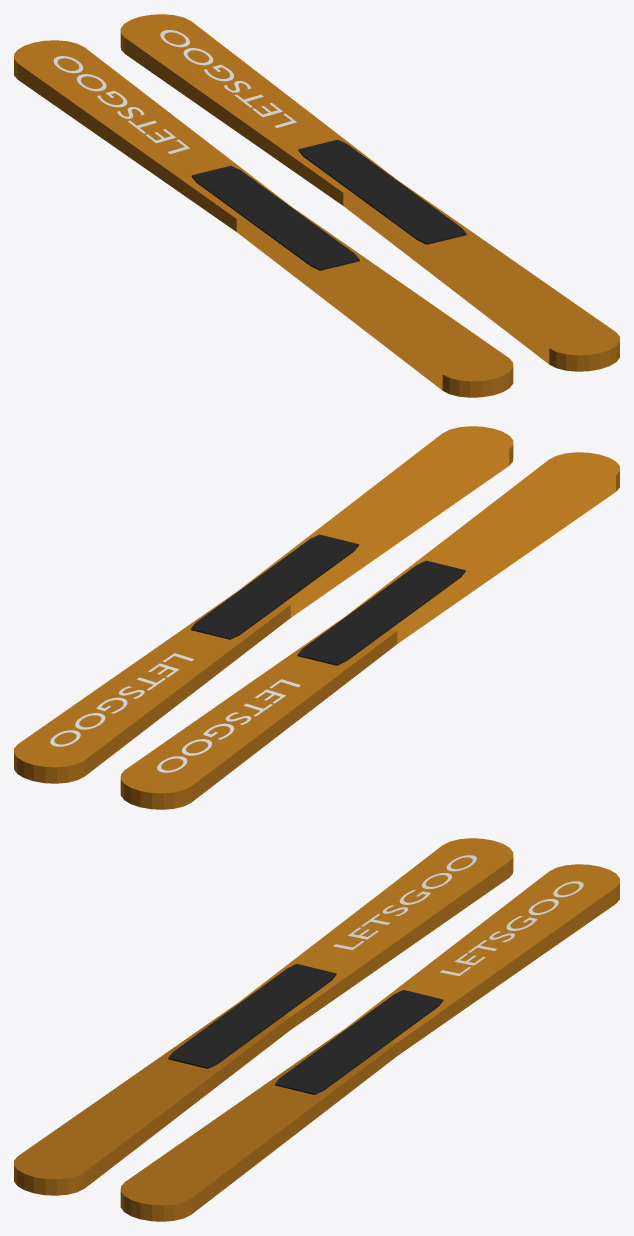
The model's file is skis.fbx.
The picture shows the model from 3 angles, top to bottom: view 1: azimuth 30°, elevation 25°; view 2: azimuth 150°, elevation 25°; view 3: azimuth 330°, elevation 25°; orthographic projection.
Visible parts, largest first — view 1: Plane, Plane.002, Plane.001, Plane.003, Letsgoo, Letsgoo.001; view 2: Plane.002, Plane, Plane.001, Plane.003, Letsgoo.001, Letsgoo; view 3: Plane.002, Plane, Plane.003, Plane.001, Letsgoo.001, Letsgoo.
Boxes of the visible parts, <box> form: Plane: <box>14,40,513,397</box>; Plane.002: <box>120,14,619,371</box>; Plane.001: <box>191,165,359,270</box>; Plane.003: <box>298,139,466,244</box>; Letsgoo: <box>53,56,189,153</box>; Letsgoo.001: <box>160,30,296,127</box>; Plane.002: <box>14,426,513,783</box>; Plane: <box>120,452,619,809</box>; Plane.001: <box>297,560,465,665</box>; Plane.003: <box>190,534,358,639</box>; Letsgoo.001: <box>50,653,193,746</box>; Letsgoo: <box>157,679,300,772</box>; Plane.002: <box>120,864,619,1221</box>; Plane: <box>14,838,513,1195</box>; Plane.003: <box>275,990,443,1094</box>; Plane.001: <box>168,964,336,1068</box>; Letsgoo.001: <box>440,881,583,975</box>; Letsgoo: <box>333,855,476,949</box>.
Size of the model in its own units: 630 by 65.5 by 2893.
